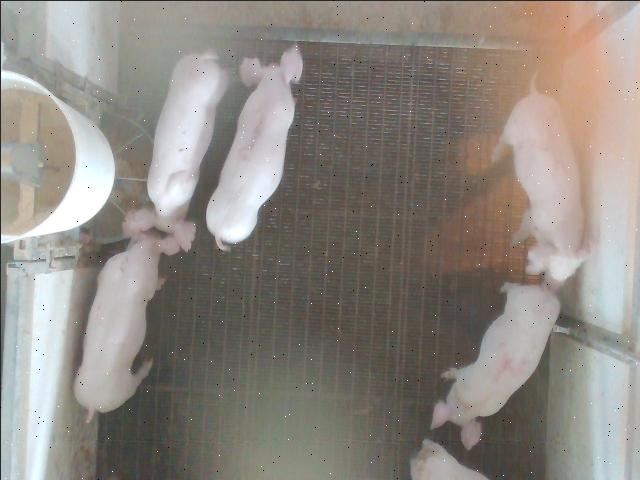pig-3: (205, 44, 301, 249)
pig-4: (430, 282, 559, 449)
